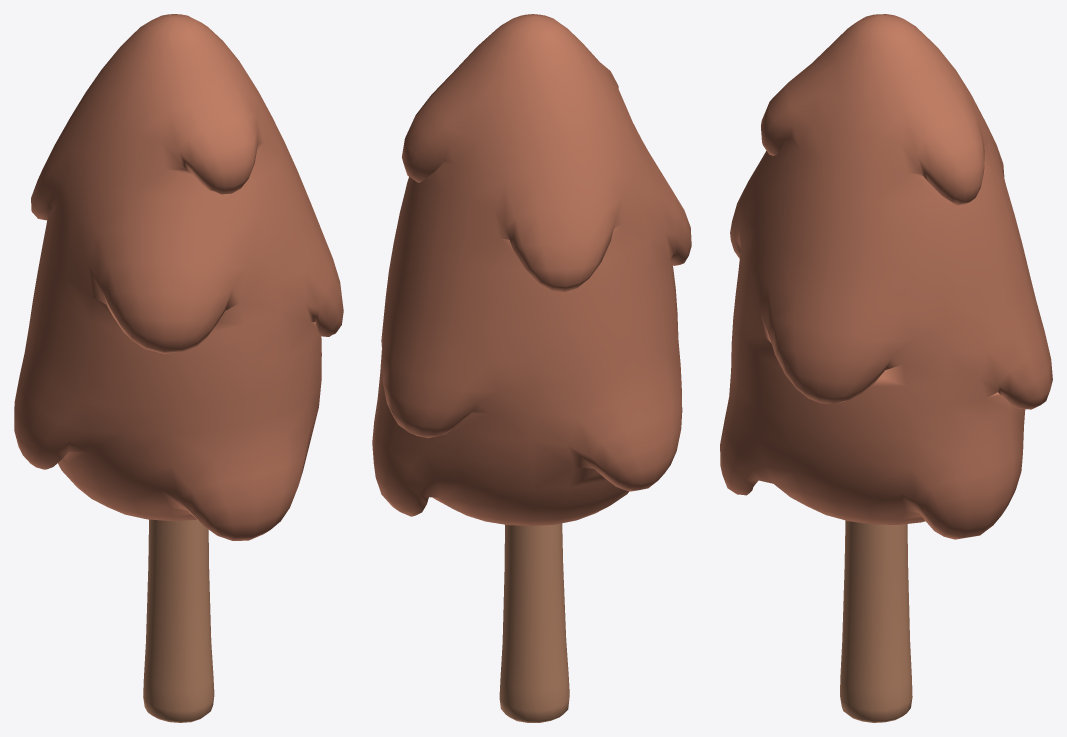
The model's file is Tree_F_03.fbx.
3 renders of one model, left to right at view 1: azimuth 30°, elevation 25°; view 2: azimuth 150°, elevation 25°; view 3: azimuth 270°, elevation 25°, orthographic.
Parts seen in each view (by area): view 1: Tree_F_03_LOD0; view 2: Tree_F_03_LOD0; view 3: Tree_F_03_LOD0.
Part boxes in pixels (x1,y1,x2,y2): Tree_F_03_LOD0: [14, 14, 343, 722]; Tree_F_03_LOD0: [372, 14, 691, 722]; Tree_F_03_LOD0: [720, 14, 1052, 722].
Size of what is drawn, in the model's own units: 541 by 1268 by 551.
